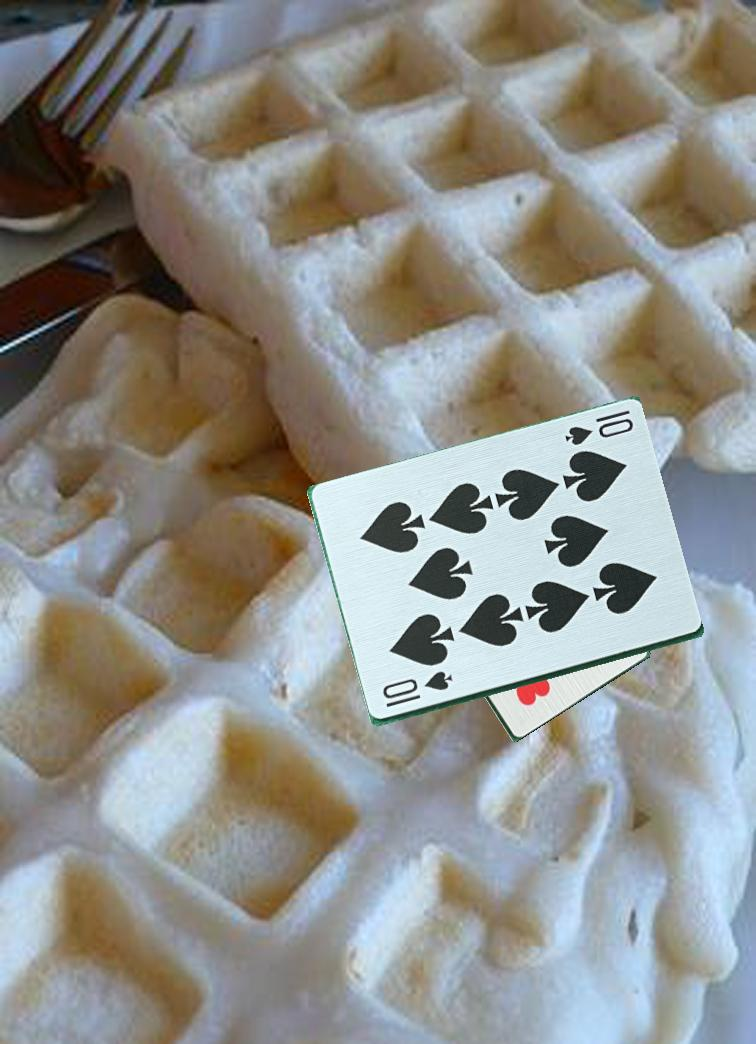ts: (560, 407, 636, 449), (378, 670, 455, 711)
